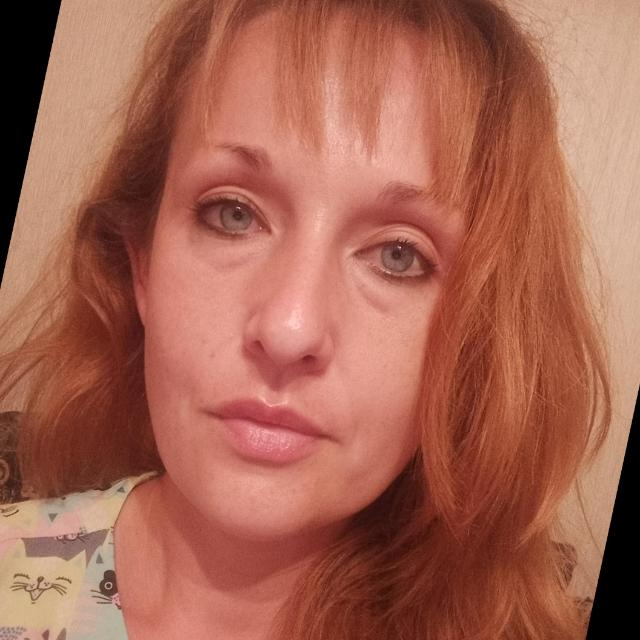Natural: (109, 86, 533, 589)
